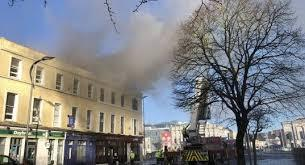smoke: (81, 46, 167, 81)
